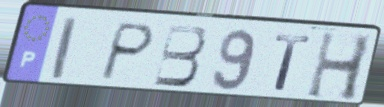9: (210, 27, 258, 92)
B: (151, 23, 208, 89)
H: (303, 29, 375, 104)
I: (49, 15, 79, 82)
P: (96, 20, 158, 83)
T: (272, 32, 314, 92)
